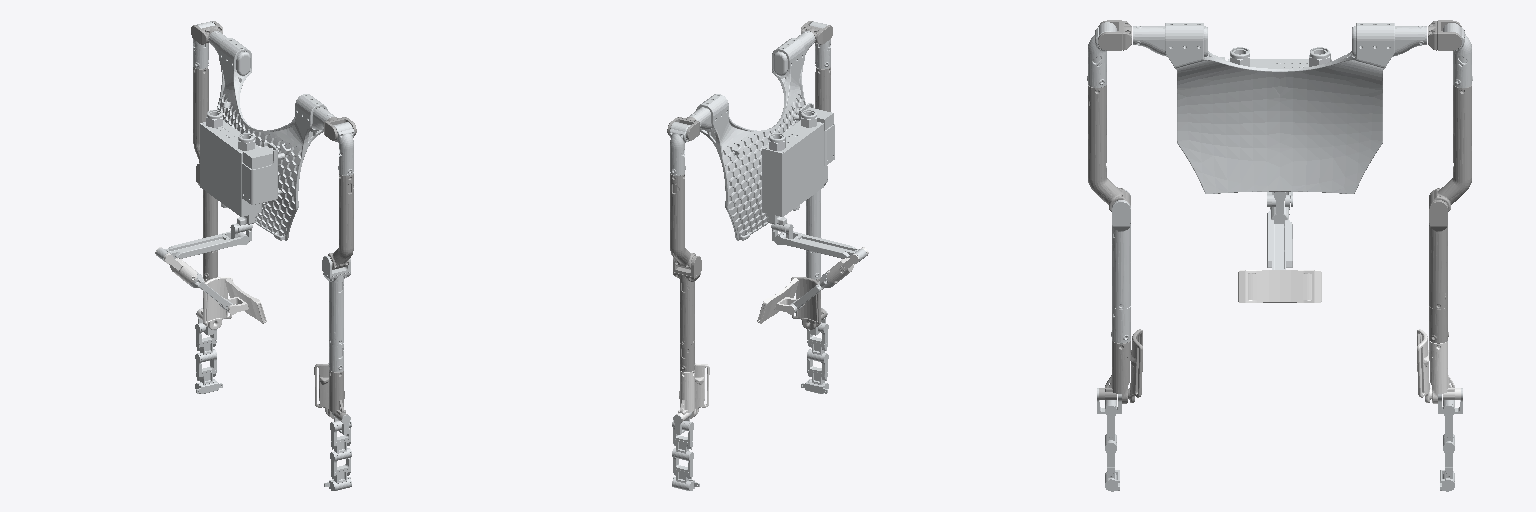
--- Render facts (derived) ---
3 views of the same robot in one strip: view 1: azimuth 30°, elevation 25°; view 2: azimuth 150°, elevation 25°; view 3: azimuth 270°, elevation 25° (orthographic).
Robot: DexCap_v3 — 24 links, 23 joints (23 revolute); root link base_link; default pose: all joints at 0.
Visible links, largest first — view 1: waist_link_5, arm_right_link_4, arm_right_link_3, arm_right_link_5, waist_link_3, arm_left_link_4, arm_left_link_3, arm_left_link_5, base_link, arm_right_link_2, arm_right_link_8; view 2: waist_link_5, arm_left_link_4, arm_left_link_3, arm_left_link_5, waist_link_3, arm_right_link_4, arm_right_link_5, base_link, arm_left_link_2, arm_right_link_3, arm_left_link_8; view 3: waist_link_5, base_link, arm_left_link_4, arm_right_link_4, arm_right_link_3, arm_left_link_3, arm_left_link_5, arm_right_link_5, waist_link_1, arm_right_link_2, arm_left_link_2, arm_left_link_1 (+1 smaller).
Link boxes in pixels (box(x1,y1,x2,y2)): waist_link_5: box(200, 31, 334, 240); arm_right_link_4: box(322, 256, 350, 371); arm_right_link_3: box(328, 174, 353, 269); arm_right_link_5: box(314, 363, 347, 421); waist_link_3: box(156, 231, 249, 260); arm_left_link_4: box(196, 163, 217, 279); arm_left_link_3: box(193, 67, 208, 162); arm_left_link_5: box(197, 277, 232, 329); base_link: box(219, 278, 266, 323); arm_right_link_2: box(333, 122, 354, 175); arm_right_link_8: box(330, 448, 351, 490); waist_link_5: box(689, 31, 834, 240); arm_left_link_4: box(673, 256, 701, 371); arm_left_link_3: box(670, 174, 695, 269); arm_left_link_5: box(676, 363, 709, 421); waist_link_3: box(774, 231, 866, 261); arm_right_link_4: box(806, 166, 827, 279); arm_right_link_5: box(791, 277, 826, 329); base_link: box(757, 278, 804, 323); arm_left_link_2: box(669, 122, 690, 175); arm_right_link_3: box(815, 67, 830, 111); arm_left_link_8: box(672, 448, 693, 490); waist_link_5: box(1133, 23, 1426, 193); base_link: box(1238, 270, 1321, 302); arm_left_link_4: box(1429, 189, 1448, 343); arm_right_link_4: box(1111, 189, 1130, 343); arm_right_link_3: box(1088, 85, 1130, 211); arm_left_link_3: box(1429, 85, 1471, 211); arm_left_link_5: box(1417, 329, 1460, 403); arm_right_link_5: box(1099, 329, 1142, 403); waist_link_1: box(1267, 203, 1292, 269); arm_right_link_2: box(1087, 22, 1116, 87); arm_left_link_2: box(1443, 23, 1472, 87); arm_left_link_1: box(1428, 20, 1461, 50).
Size in the robot's own frame: 0.2705 by 0.5604 by 0.7411 metres.
Meshes: 24 distinct files referenced, 24 mesh visuals loaded (24 binary STL).

robot.urdf — DexCap_v3:
<?xml version="1.0" encoding="utf-8"?>
<!-- This URDF was automatically created by SolidWorks to URDF Exporter! Originally created by Stephen Brawner ([email redacted]) 
     Commit Version: 1.6.0-4-g7f85cfe  Build Version: 1.6.7995.38578
     For more information, please see http://wiki.ros.org/sw_urdf_exporter -->
<robot
  name="DexCap_v3">
  <link
    name="base_link">
    <inertial>
      <origin
        xyz="-0.0630931864277919 -0.000422437093534056 -0.430586750068306"
        rpy="0 0 0" />
      <mass
        value="0.0440398817502708" />
      <inertia
        ixx="5.49008933888164E-05"
        ixy="-3.07838905546442E-07"
        ixz="1.97875073583299E-06"
        iyy="8.52729666533234E-06"
        iyz="-7.1668123423511E-10"
        izz="4.98635363094212E-05" />
    </inertial>
    <visual>
      <origin
        xyz="0 0 0"
        rpy="0 0 0" />
      <geometry>
        <mesh
          filename="package://DexCap_v3/meshes/base_link.STL" />
      </geometry>
      <material
        name="">
        <color
          rgba="1 1 1 1" />
      </material>
    </visual>
    <collision>
      <origin
        xyz="0 0 0"
        rpy="0 0 0" />
      <geometry>
        <mesh
          filename="package://DexCap_v3/meshes/base_link.STL" />
      </geometry>
    </collision>
  </link>
  <link
    name="waist_link_1">
    <inertial>
      <origin
        xyz="-0.0411991666064392 0.0410064851694155 9.10675926758068E-06"
        rpy="0 0 0" />
      <mass
        value="0.0418771435578573" />
      <inertia
        ixx="1.89378440895573E-05"
        ixy="1.40099001815212E-05"
        ixz="2.75368526438087E-07"
        iyy="1.90692136929288E-05"
        iyz="-2.74109582655286E-07"
        izz="2.98796587109041E-05" />
    </inertial>
    <visual>
      <origin
        xyz="0 0 0"
        rpy="0 0 0" />
      <geometry>
        <mesh
          filename="package://DexCap_v3/meshes/waist_link_1.STL" />
      </geometry>
      <material
        name="">
        <color
          rgba="0.898039215686275 0.913725490196078 0.925490196078431 1" />
      </material>
    </visual>
    <collision>
      <origin
        xyz="0 0 0"
        rpy="0 0 0" />
      <geometry>
        <mesh
          filename="package://DexCap_v3/meshes/waist_link_1.STL" />
      </geometry>
    </collision>
  </link>
  <joint
    name="waist_joint_1"
    type="revolute">
    <origin
      xyz="-0.094803 0 -0.43276"
      rpy="1.5708 0 0" />
    <parent
      link="base_link" />
    <child
      link="waist_link_1" />
    <axis
      xyz="0 0 -1" />
    <limit
      lower="-3.1416"
      upper="3.1416"
      effort="0"
      velocity="0" />
  </joint>
  <link
    name="waist_link_2">
    <inertial>
      <origin
        xyz="0.00121680085627097 1.38120373036066E-05 0.0444138239400643"
        rpy="0 0 0" />
      <mass
        value="0.01767886911966" />
      <inertia
        ixx="4.43932417853619E-06"
        ixy="2.95172436200552E-09"
        ixz="-3.52317218989404E-07"
        iyy="4.94084422529294E-06"
        iyz="-1.84708003036118E-09"
        izz="2.27266910279198E-06" />
    </inertial>
    <visual>
      <origin
        xyz="0 0 0"
        rpy="0 0 0" />
      <geometry>
        <mesh
          filename="package://DexCap_v3/meshes/waist_link_2.STL" />
      </geometry>
      <material
        name="">
        <color
          rgba="1 1 1 1" />
      </material>
    </visual>
    <collision>
      <origin
        xyz="0 0 0"
        rpy="0 0 0" />
      <geometry>
        <mesh
          filename="package://DexCap_v3/meshes/waist_link_2.STL" />
      </geometry>
    </collision>
  </link>
  <joint
    name="waist_joint_2"
    type="revolute">
    <origin
      xyz="-0.076334 0.075977 0"
      rpy="-0.7831 -1.5708 0" />
    <parent
      link="waist_link_1" />
    <child
      link="waist_link_2" />
    <axis
      xyz="0 0 1" />
    <limit
      lower="-3.1416"
      upper="3.1416"
      effort="0"
      velocity="0" />
  </joint>
  <link
    name="waist_link_3">
    <inertial>
      <origin
        xyz="0.0723329331985119 0.00032464121468373 -9.65841364722194E-05"
        rpy="0 0 0" />
      <mass
        value="0.0479941122284867" />
      <inertia
        ixx="6.29893851015422E-06"
        ixy="2.98934496773012E-11"
        ixz="-1.66699182942129E-07"
        iyy="4.88179946401882E-05"
        iyz="-1.25145027726795E-12"
        izz="4.3709535800671E-05" />
    </inertial>
    <visual>
      <origin
        xyz="0 0 0"
        rpy="0 0 0" />
      <geometry>
        <mesh
          filename="package://DexCap_v3/meshes/waist_link_3.STL" />
      </geometry>
      <material
        name="">
        <color
          rgba="0.898039215686275 0.913725490196078 0.925490196078431 1" />
      </material>
    </visual>
    <collision>
      <origin
        xyz="0 0 0"
        rpy="0 0 0" />
      <geometry>
        <mesh
          filename="package://DexCap_v3/meshes/waist_link_3.STL" />
      </geometry>
    </collision>
  </link>
  <joint
    name="waist_joint_3"
    type="revolute">
    <origin
      xyz="0 0 0.0828"
      rpy="1.5707963267949 0.787742096537216 1.5707963267949" />
    <parent
      link="waist_link_2" />
    <child
      link="waist_link_3" />
    <axis
      xyz="0 0 1" />
    <limit
      lower="-3.1416"
      upper="3.1416"
      effort="0"
      velocity="0" />
  </joint>
  <link
    name="waist_link_4">
    <inertial>
      <origin
        xyz="-0.000304878530911726 0.00264286663211533 -0.00108460663332032"
        rpy="0 0 0" />
      <mass
        value="0.0129486242824265" />
      <inertia
        ixx="1.2550881316379E-06"
        ixy="3.07837968601309E-07"
        ixz="-1.18110459404384E-23"
        iyy="7.71456924457374E-07"
        iyz="-2.08490250130777E-22"
        izz="1.58440943720495E-06" />
    </inertial>
    <visual>
      <origin
        xyz="0 0 0"
        rpy="0 0 0" />
      <geometry>
        <mesh
          filename="package://DexCap_v3/meshes/waist_link_4.STL" />
      </geometry>
      <material
        name="">
        <color
          rgba="0.898039215686275 0.913725490196078 0.925490196078431 1" />
      </material>
    </visual>
    <collision>
      <origin
        xyz="0 0 0"
        rpy="0 0 0" />
      <geometry>
        <mesh
          filename="package://DexCap_v3/meshes/waist_link_4.STL" />
      </geometry>
    </collision>
  </link>
  <joint
    name="waist_joint_4"
    type="revolute">
    <origin
      xyz="0.16 0.00037503 0"
      rpy="0 0 0" />
    <parent
      link="waist_link_3" />
    <child
      link="waist_link_4" />
    <axis
      xyz="0 0 -1" />
    <limit
      lower="-3.1416"
      upper="3.1416"
      effort="0"
      velocity="0" />
  </joint>
  <link
    name="waist_link_5">
    <inertial>
      <origin
        xyz="-0.0242625662778771 0.188298657473503 0.031042347578289"
        rpy="0 0 0" />
      <mass
        value="0.800247665471353" />
      <inertia
        ixx="0.00270602225574531"
        ixy="-2.19270165136332E-06"
        ixz="-6.49031772027734E-06"
        iyy="0.00417920907970252"
        iyz="-0.000498073354470881"
        izz="0.00638574038550345" />
    </inertial>
    <visual>
      <origin
        xyz="0 0 0"
        rpy="0 0 0" />
      <geometry>
        <mesh
          filename="package://DexCap_v3/meshes/waist_link_5.STL" />
      </geometry>
      <material
        name="">
        <color
          rgba="0.898039215686275 0.913725490196078 0.925490196078431 1" />
      </material>
    </visual>
    <collision>
      <origin
        xyz="0 0 0"
        rpy="0 0 0" />
      <geometry>
        <mesh
          filename="package://DexCap_v3/meshes/waist_link_5.STL" />
      </geometry>
    </collision>
  </link>
  <joint
    name="waist_joint_5"
    type="revolute">
    <origin
      xyz="-0.00020000000002969 0.01900000000001 0"
      rpy="0 1.5707963267949 0" />
    <parent
      link="waist_link_4" />
    <child
      link="waist_link_5" />
    <axis
      xyz="0 0 1" />
    <limit
      lower="-3.1416"
      upper="3.1416"
      effort="0"
      velocity="0" />
  </joint>
  <link
    name="arm_left_link_1">
    <inertial>
      <origin
        xyz="0.000491692755282312 8.07881928223965E-08 0.0180529941312758"
        rpy="0 0 0" />
      <mass
        value="0.0291901572853305" />
      <inertia
        ixx="3.36736877255278E-06"
        ixy="8.66553920834977E-11"
        ixz="-7.62365761081616E-07"
        iyy="5.24618942714991E-06"
        iyz="-1.99502705105374E-11"
        izz="5.18916488235103E-06" />
    </inertial>
    <visual>
      <origin
        xyz="0 0 0"
        rpy="0 0 0" />
      <geometry>
        <mesh
          filename="package://DexCap_v3/meshes/arm_left_link_1.STL" />
      </geometry>
      <material
        name="">
        <color
          rgba="0.749019607843137 0.749019607843137 0.749019607843137 1" />
      </material>
    </visual>
    <collision>
      <origin
        xyz="0 0 0"
        rpy="0 0 0" />
      <geometry>
        <mesh
          filename="package://DexCap_v3/meshes/arm_left_link_1.STL" />
      </geometry>
    </collision>
  </link>
  <joint
    name="arm_left_joint_1"
    type="revolute">
    <origin
      xyz="0.2142 0.279 0.070023"
      rpy="0 -1.5708 3.1416" />
    <parent
      link="waist_link_5" />
    <child
      link="arm_left_link_1" />
    <axis
      xyz="0 0 -1" />
    <limit
      lower="-3.1416"
      upper="3.1416"
      effort="0"
      velocity="0" />
  </joint>
  <link
    name="arm_left_link_2">
    <inertial>
      <origin
        xyz="0.0102730214984517 -0.0285830464236879 0.000353452321258163"
        rpy="0 0 0" />
      <mass
        value="0.0642318746332446" />
      <inertia
        ixx="2.30867042039257E-05"
        ixy="2.77069669390713E-07"
        ixz="-8.63100971408862E-12"
        iyy="6.78871609081445E-06"
        iyz="5.68881547154965E-12"
        izz="2.27519054468147E-05" />
    </inertial>
    <visual>
      <origin
        xyz="0 0 0"
        rpy="0 0 0" />
      <geometry>
        <mesh
          filename="package://DexCap_v3/meshes/arm_left_link_2.STL" />
      </geometry>
      <material
        name="">
        <color
          rgba="0.898039215686275 0.913725490196078 0.925490196078431 1" />
      </material>
    </visual>
    <collision>
      <origin
        xyz="0 0 0"
        rpy="0 0 0" />
      <geometry>
        <mesh
          filename="package://DexCap_v3/meshes/arm_left_link_2.STL" />
      </geometry>
    </collision>
  </link>
  <joint
    name="arm_left_joint_2"
    type="revolute">
    <origin
      xyz="0 0 0.0365"
      rpy="3.1416 -1.5708 0" />
    <parent
      link="arm_left_link_1" />
    <child
      link="arm_left_link_2" />
    <axis
      xyz="0 0 -1" />
    <limit
      lower="-3.1416"
      upper="3.1416"
      effort="0"
      velocity="0" />
  </joint>
  <link
    name="arm_left_link_3">
    <inertial>
      <origin
        xyz="-0.00733992996293159 0.000166259726387946 0.11062104373699"
        rpy="0 0 0" />
      <mass
        value="0.138269534134036" />
      <inertia
        ixx="0.000365670556027247"
        ixy="-3.87828013482665E-09"
        ixz="2.54070139340245E-05"
        iyy="0.000370256124751617"
        iyz="2.10574873034976E-08"
        izz="1.91791971761677E-05" />
    </inertial>
    <visual>
      <origin
        xyz="0 0 0"
        rpy="0 0 0" />
      <geometry>
        <mesh
          filename="package://DexCap_v3/meshes/arm_left_link_3.STL" />
      </geometry>
      <material
        name="">
        <color
          rgba="0.749019607843137 0.749019607843137 0.749019607843137 1" />
      </material>
    </visual>
    <collision>
      <origin
        xyz="0 0 0"
        rpy="0 0 0" />
      <geometry>
        <mesh
          filename="package://DexCap_v3/meshes/arm_left_link_3.STL" />
      </geometry>
    </collision>
  </link>
  <joint
    name="arm_left_joint_3"
    type="revolute">
    <origin
      xyz="0.015 -0.0778 0"
      rpy="1.5708 0 0" />
    <parent
      link="arm_left_link_2" />
    <child
      link="arm_left_link_3" />
    <axis
      xyz="0 0 -1" />
    <limit
      lower="-3.1416"
      upper="3.1416"
      effort="0"
      velocity="0" />
  </joint>
  <link
    name="arm_left_link_4">
    <inertial>
      <origin
        xyz="-5.54231536781247E-05 -0.108068569915374 -9.07055910222271E-05"
        rpy="0 0 0" />
      <mass
        value="0.155007696193009" />
      <inertia
        ixx="0.00020149844235198"
        ixy="1.19077293006666E-07"
        ixz="-3.11698268436826E-09"
        iyy="1.69189216785844E-05"
        iyz="7.47862962917814E-07"
        izz="0.00019958368356289" />
    </inertial>
    <visual>
      <origin
        xyz="0 0 0"
        rpy="0 0 0" />
      <geometry>
        <mesh
          filename="package://DexCap_v3/meshes/arm_left_link_4.STL" />
      </geometry>
      <material
        name="">
        <color
          rgba="0.749019607843137 0.749019607843137 0.749019607843137 1" />
      </material>
    </visual>
    <collision>
      <origin
        xyz="0 0 0"
        rpy="0 0 0" />
      <geometry>
        <mesh
          filename="package://DexCap_v3/meshes/arm_left_link_4.STL" />
      </geometry>
    </collision>
  </link>
  <joint
    name="arm_left_joint_4"
    type="revolute">
    <origin
      xyz="-0.034999999999851 0 0.1922"
      rpy="-1.5707963267949 0 0" />
    <parent
      link="arm_left_link_3" />
    <child
      link="arm_left_link_4" />
    <axis
      xyz="0 0 1" />
    <limit
      lower="-3.1416"
      upper="3.1416"
      effort="0"
      velocity="0" />
  </joint>
  <link
    name="arm_left_link_5">
    <inertial>
      <origin
        xyz="-0.00453770344525137 9.94969532701099E-05 0.0469404845000466"
        rpy="0 0 0" />
      <mass
        value="0.0844986298304657" />
      <inertia
        ixx="5.78663108959802E-05"
        ixy="8.66885585467564E-09"
        ixz="-3.87484133465434E-06"
        iyy="5.01466383127894E-05"
        iyz="1.04435544740528E-07"
        izz="1.25294015769866E-05" />
    </inertial>
    <visual>
      <origin
        xyz="0 0 0"
        rpy="0 0 0" />
      <geometry>
        <mesh
          filename="package://DexCap_v3/meshes/arm_left_link_5.STL" />
      </geometry>
      <material
        name="">
        <color
          rgba="1 1 1 1" />
      </material>
    </visual>
    <collision>
      <origin
        xyz="0 0 0"
        rpy="0 0 0" />
      <geometry>
        <mesh
          filename="package://DexCap_v3/meshes/arm_left_link_5.STL" />
      </geometry>
    </collision>
  </link>
  <joint
    name="arm_left_joint_5"
    type="revolute">
    <origin
      xyz="0 -0.2178 0"
      rpy="1.5708 0 0" />
    <parent
      link="arm_left_link_4" />
    <child
      link="arm_left_link_5" />
    <axis
      xyz="0 0 -1" />
    <limit
      lower="-3.1416"
      upper="3.1416"
      effort="0"
      velocity="0" />
  </joint>
  <link
    name="arm_left_link_6">
    <inertial>
      <origin
        xyz="-0.00108460663324061 -0.0163571333680134 0.000104878530787972"
        rpy="0 0 0" />
      <mass
        value="0.0129486242824265" />
      <inertia
        ixx="1.58440943720495E-06"
        ixy="1.37411603608853E-19"
        ixz="5.14017084214515E-20"
        iyy="7.71456924457372E-07"
        iyz="-3.07837968601309E-07"
        izz="1.2550881316379E-06" />
    </inertial>
    <visual>
      <origin
        xyz="0 0 0"
        rpy="0 0 0" />
      <geometry>
        <mesh
          filename="package://DexCap_v3/meshes/arm_left_link_6.STL" />
      </geometry>
      <material
        name="">
        <color
          rgba="0.898039215686275 0.913725490196078 0.925490196078431 1" />
      </material>
    </visual>
    <collision>
      <origin
        xyz="0 0 0"
        rpy="0 0 0" />
      <geometry>
        <mesh
          filename="package://DexCap_v3/meshes/arm_left_link_6.STL" />
      </geometry>
    </collision>
  </link>
  <joint
    name="arm_left_joint_6"
    type="revolute">
    <origin
      xyz="0.0148000000000425 0 0.0871999999999999"
      rpy="-1.5707963267949 0 1.5707963267949" />
    <parent
      link="arm_left_link_5" />
    <child
      link="arm_left_link_6" />
    <axis
      xyz="0 0 -1" />
    <limit
      lower="-3.1416"
      upper="3.1416"
      effort="0"
      velocity="0" />
  </joint>
  <link
    name="arm_left_link_7">
    <inertial>
      <origin
        xyz="2.47728226820954E-11 -0.0377782950562069 -0.000310017130732257"
        rpy="0 0 0" />
      <mass
        value="0.0185428471276505" />
      <inertia
        ixx="2.46260702228347E-06"
        ixy="3.83136935046714E-15"
        ixz="9.45777447148124E-14"
        iyy="1.43805434657213E-06"
        iyz="2.89921223360366E-07"
        izz="1.59800469969333E-06" />
    </inertial>
    <visual>
      <origin
        xyz="0 0 0"
        rpy="0 0 0" />
      <geometry>
        <mesh
          filename="package://DexCap_v3/meshes/arm_left_link_7.STL" />
      </geometry>
      <material
        name="">
        <color
          rgba="0.898039215686275 0.913725490196078 0.925490196078431 1" />
      </material>
    </visual>
    <collision>
      <origin
        xyz="0 0 0"
        rpy="0 0 0" />
      <geometry>
        <mesh
          filename="package://DexCap_v3/meshes/arm_left_link_7.STL" />
      </geometry>
    </collision>
  </link>
  <joint
    name="arm_left_joint_7"
    type="revolute">
    <origin
      xyz="0 -0.0189999999999997 -0.00019999999999698"
      rpy="0 -1.5707963267949 0" />
    <parent
      link="arm_left_link_6" />
    <child
      link="arm_left_link_7" />
    <axis
      xyz="0 0 -1" />
    <limit
      lower="-3.1416"
      upper="3.1416"
      effort="0"
      velocity="0" />
  </joint>
  <link
    name="arm_left_link_8">
    <inertial>
      <origin
        xyz="2.47724063484611E-11 -0.0377782950562132 -0.000310017128458956"
        rpy="0 0 0" />
      <mass
        value="0.0185428471276505" />
      <inertia
        ixx="2.46260702228346E-06"
        ixy="3.83135028958458E-15"
        ixz="9.45776363496197E-14"
        iyy="1.43805434657205E-06"
        iyz="2.89921223360308E-07"
        izz="1.5980046996934E-06" />
    </inertial>
    <visual>
      <origin
        xyz="0 0 0"
        rpy="0 0 0" />
      <geometry>
        <mesh
          filename="package://DexCap_v3/meshes/arm_left_link_8.STL" />
      </geometry>
      <material
        name="">
        <color
          rgba="0.898039215686275 0.913725490196078 0.925490196078431 1" />
      </material>
    </visual>
    <collision>
      <origin
        xyz="0 0 0"
        rpy="0 0 0" />
      <geometry>
        <mesh
          filename="package://DexCap_v3/meshes/arm_left_link_8.STL" />
      </geometry>
    </collision>
  </link>
  <joint
    name="arm_left_joint_8"
    type="revolute">
    <origin
      xyz="0 -0.0599999999999968 0"
      rpy="0 0 0" />
    <parent
      link="arm_left_link_7" />
    <child
      link="arm_left_link_8" />
    <axis
      xyz="0 0 -1" />
    <limit
      lower="-3.1416"
      upper="3.1416"
      effort="0"
      velocity="0" />
  </joint>
  <link
    name="arm_left_link_9">
    <inertial>
      <origin
        xyz="0.00639822720601635 4.44089209850063E-16 -0.00288709539829008"
        rpy="0 0 0" />
      <mass
        value="0.00495546955469289" />
      <inertia
        ixx="5.12304390767419E-07"
        ixy="2.07173950890951E-20"
        ixz="-1.24104661970862E-07"
        iyy="6.11786453873738E-07"
        iyz="5.14072274407268E-20"
        izz="3.04653246440413E-07" />
    </inertial>
    <visual>
      <origin
        xyz="0 0 0"
        rpy="0 0 0" />
      <geometry>
        <mesh
          filename="package://DexCap_v3/meshes/arm_left_link_9.STL" />
      </geometry>
      <material
        name="">
        <color
          rgba="0.898039215686275 0.913725490196078 0.925490196078431 1" />
      </material>
    </visual>
    <collision>
      <origin
        xyz="0 0 0"
        rpy="0 0 0" />
      <geometry>
        <mesh
          filename="package://DexCap_v3/meshes/arm_left_link_9.STL" />
      </geometry>
    </collision>
  </link>
  <joint
    name="arm_left_joint_9"
    type="revolute">
    <origin
      xyz="0 -0.06 0"
      rpy="0 0 0" />
    <parent
      link="arm_left_link_8" />
    <child
      link="arm_left_link_9" />
    <axis
      xyz="0 0 -1" />
    <limit
      lower="-3.1416"
      upper="3.1416"
      effort="0"
      velocity="0" />
  </joint>
  <link
    name="arm_right_link_1">
    <inertial>
      <origin
        xyz="0.000491692755382987 8.07881928259526E-08 0.0180529941312758"
        rpy="0 0 0" />
      <mass
        value="0.0291901572853304" />
      <inertia
        ixx="3.36736877255277E-06"
        ixy="8.66553920846507E-11"
        ixz="-7.62365761081613E-07"
        iyy="5.24618942714991E-06"
        iyz="-1.9950270509776E-11"
        izz="5.18916488235103E-06" />
    </inertial>
    <visual>
      <origin
        xyz="0 0 0"
        rpy="0 0 0" />
      <geometry>
        <mesh
          filename="package://DexCap_v3/meshes/arm_right_link_1.STL" />
      </geometry>
      <material
        name="">
        <color
          rgba="0.749019607843137 0.749019607843137 0.749019607843137 1" />
      </material>
    </visual>
    <collision>
      <origin
        xyz="0 0 0"
        rpy="0 0 0" />
      <geometry>
        <mesh
          filename="package://DexCap_v3/meshes/arm_right_link_1.STL" />
      </geometry>
    </collision>
  </link>
  <joint
    name="arm_right_joint_1"
    type="revolute">
    <origin
      xyz="-0.2142 0.279000000000008 0.0700226591794687"
      rpy="0 -1.5707963267949 0" />
    <parent
      link="waist_link_5" />
    <child
      link="arm_right_link_1" />
    <axis
      xyz="0 0 -1" />
    <limit
      lower="-3.1416"
      upper="3.1416"
      effort="0"
      velocity="0" />
  </joint>
  <link
    name="arm_right_link_2">
    <inertial>
      <origin
        xyz="-0.0102730215036719 -0.0285830464057544 -0.000353452353158428"
        rpy="0 0 0" />
      <mass
        value="0.0642318746332448" />
      <inertia
        ixx="2.30867042039259E-05"
        ixy="-2.77069669390719E-07"
        ixz="-8.63100971270341E-12"
        iyy="6.78871609081445E-06"
        iyz="-5.68881546710899E-12"
        izz="2.27519054468148E-05" />
    </inertial>
    <visual>
      <origin
        xyz="0 0 0"
        rpy="0 0 0" />
      <geometry>
        <mesh
          filename="package://DexCap_v3/meshes/arm_right_link_2.STL" />
      </geometry>
      <material
        name="">
        <color
          rgba="0.898039215686275 0.913725490196078 0.925490196078431 1" />
      </material>
    </visual>
    <collision>
      <origin
        xyz="0 0 0"
        rpy="0 0 0" />
      <geometry>
        <mesh
          filename="package://DexCap_v3/meshes/arm_right_link_2.STL" />
      </geometry>
    </collision>
  </link>
  <joint
    name="arm_right_joint_2"
    type="revolute">
    <origin
      xyz="0 0 0.0365"
      rpy="0 1.5707963267949 0" />
    <parent
      link="arm_right_link_1" />
    <child
      link="arm_right_link_2" />
    <axis
      xyz="0 0 1" />
    <limit
      lower="-3.1416"
      upper="3.1416"
      effort="0"
      velocity="0" />
  </joint>
  <link
    name="arm_right_link_3">
    <inertial>
      <origin
        xyz="0.00733992996293154 -0.000166259726376692 0.11062104373699"
        rpy="0 0 0" />
      <mass
        value="0.138269534134036" />
      <inertia
        ixx="0.000365670556027246"
        ixy="-3.87828013483114E-09"
        ixz="-2.54070139340242E-05"
        iyy="0.000370256124751616"
        iyz="-2.10574873035411E-08"
        izz="1.91791971761675E-05" />
    </inertial>
    <visual>
      <origin
        xyz="0 0 0"
        rpy="0 0 0" />
      <geometry>
        <mesh
          filename="package://DexCap_v3/meshes/arm_right_link_3.STL" />
      </geometry>
      <material
        name="">
        <color
          rgba="0.749019607843137 0.749019607843137 0.749019607843137 1" />
      </material>
    </visual>
    <collision>
      <origin
        xyz="0 0 0"
        rpy="0 0 0" />
      <geometry>
        <mesh
          filename="package://DexCap_v3/meshes/arm_right_link_3.STL" />
      </geometry>
    </collision>
  </link>
  <joint
    name="arm_right_joint_3"
    type="revolute">
    <origin
      xyz="-0.014999999999851 -0.0778000000000044 0"
      rpy="1.5707963267949 0 0" />
    <parent
      link="arm_right_link_2" />
    <child
      link="arm_right_link_3" />
    <axis
      xyz="0 0 -1" />
    <limit
      lower="-3.1416"
      upper="3.1416"
      effort="0"
      velocity="0" />
  </joint>
  <link
    name="arm_right_link_4">
    <inertial>
      <origin
        xyz="5.54231536780692E-05 -0.108068569915374 0.000140705590931115"
        rpy="0 0 0" />
      <mass
        value="0.155007696193009" />
      <inertia
        ixx="0.00020149844235198"
        ixy="-1.19077293006681E-07"
        ixz="-3.11698268437398E-09"
        iyy="1.69189216785844E-05"
        iyz="-7.47862962917863E-07"
        izz="0.000199583683562891" />
    </inertial>
    <visual>
      <origin
        xyz="0 0 0"
        rpy="0 0 0" />
      <geometry>
        <mesh
          filename="package://DexCap_v3/meshes/arm_right_link_4.STL" />
      </geometry>
      <material
        name="">
        <color
          rgba="0.898039215686275 0.913725490196078 0.925490196078431 1" />
      </material>
    </visual>
    <collision>
      <origin
        xyz="0 0 0"
        rpy="0 0 0" />
      <geometry>
        <mesh
          filename="package://DexCap_v3/meshes/arm_right_link_4.STL" />
      </geometry>
    </collision>
  </link>
  <joint
    name="arm_right_joint_4"
    type="revolute">
    <origin
      xyz="0.034999999999851 -4.99999999515264E-05 0.1922"
      rpy="-1.5707963267949 0 0" />
    <parent
      link="arm_right_link_3" />
    <child
      link="arm_right_link_4" />
    <axis
      xyz="0 0 -1" />
    <limit
      lower="-3.1416"
      upper="3.1416"
      effort="0"
      velocity="0" />
  </joint>
  <link
    name="arm_right_link_5">
    <inertial>
      <origin
        xyz="0.00453770347062363 9.95288155575336E-05 0.0469404847556881"
        rpy="0 0 0" />
      <mass
        value="0.0844986304744271" />
      <inertia
        ixx="5.78663107793658E-05"
        ixy="-8.68174114892829E-09"
        ixz="3.87484127293338E-06"
        iyy="5.0146639607409E-05"
        iyz="1.04367505291894E-07"
        izz="1.25294003365855E-05" />
    </inertial>
    <visual>
      <origin
        xyz="0 0 0"
        rpy="0 0 0" />
      <geometry>
        <mesh
          filename="package://DexCap_v3/meshes/arm_right_link_5.STL" />
      </geometry>
      <material
        name="">
        <color
          rgba="0.749019607843137 0.749019607843137 0.749019607843137 1" />
      </material>
    </visual>
    <collision>
      <origin
        xyz="0 0 0"
        rpy="0 0 0" />
      <geometry>
        <mesh
          filename="package://DexCap_v3/meshes/arm_right_link_5.STL" />
      </geometry>
    </collision>
  </link>
  <joint
    name="arm_right_joint_5"
    type="revolute">
    <origin
      xyz="0 -0.2178 4.99999998749544E-05"
      rpy="1.5707963267949 0 0" />
    <parent
      link="arm_right_link_4" />
    <child
      link="arm_right_link_5" />
    <axis
      xyz="0 0 -1" />
    <limit
      lower="-3.1416"
      upper="3.1416"
      effort="0"
      velocity="0" />
  </joint>
  <link
    name="arm_right_link_6">
    <inertial>
      <origin
        xyz="-0.00108460663328887 -0.0163571333680133 0.000104878530787889"
        rpy="0 0 0" />
      <mass
        value="0.0129486242824265" />
      <inertia
        ixx="1.58440943720495E-06"
        ixy="-1.36744986896434E-19"
        ixz="-5.1954274149292E-20"
        iyy="7.71456924457371E-07"
        iyz="-3.07837968601308E-07"
        izz="1.2550881316379E-06" />
    </inertial>
    <visual>
      <origin
        xyz="0 0 0"
        rpy="0 0 0" />
      <geometry>
        <mesh
          filename="package://DexCap_v3/meshes/arm_right_link_6.STL" />
      </geometry>
      <material
        name="">
        <color
          rgba="0.898039215686275 0.913725490196078 0.925490196078431 1" />
      </material>
    </visual>
    <collision>
      <origin
        xyz="0 0 0"
        rpy="0 0 0" />
      <geometry>
        <mesh
          filename="package://DexCap_v3/meshes/arm_right_link_6.STL" />
      </geometry>
    </collision>
  </link>
  <joint
    name="arm_right_joint_6"
    type="revolute">
    <origin
      xyz="-0.0148000000000425 0 0.0871999999999999"
      rpy="-1.5707963267949 0 -1.5707963267949" />
    <parent
      link="arm_right_link_5" />
    <child
      link="arm_right_link_6" />
    <axis
      xyz="0 0 -1" />
    <limit
      lower="-3.1416"
      upper="3.1416"
      effort="0"
      velocity="0" />
  </joint>
  <link
    name="arm_right_link_7">
    <inertial>
      <origin
        xyz="2.47729337043978E-11 -0.0377782950562068 -0.000310017130721131"
        rpy="0 0 0" />
      <mass
        value="0.0185428471276505" />
      <inertia
        ixx="2.46260702228346E-06"
        ixy="3.83135523234051E-15"
        ixz="9.45777040222363E-14"
        iyy="1.43805434657215E-06"
        iyz="2.89921223360334E-07"
        izz="1.5980046996933E-06" />
    </inertial>
    <visual>
      <origin
        xyz="0 0 0"
        rpy="0 0 0" />
      <geometry>
        <mesh
          filename="package://DexCap_v3/meshes/arm_right_link_7.STL" />
      </geometry>
      <material
        name="">
        <color
          rgba="0.898039215686275 0.913725490196078 0.925490196078431 1" />
      </material>
    </visual>
    <collision>
      <origin
        xyz="0 0 0"
        rpy="0 0 0" />
      <geometry>
        <mesh
          filename="package://DexCap_v3/meshes/arm_right_link_7.STL" />
      </geometry>
    </collision>
  </link>
  <joint
    name="arm_right_joint_7"
    type="revolute">
    <origin
      xyz="0 -0.019 -0.0002"
      rpy="0 -1.5708 0" />
    <parent
      link="arm_right_link_6" />
    <child
      link="arm_right_link_7" />
    <axis
      xyz="0 0 -1" />
    <limit
      lower="-3.1416"
      upper="3.1416"
      effort="0"
      velocity="0" />
  </joint>
  <link
    name="arm_right_link_8">
    <inertial>
      <origin
        xyz="2.47718512369488E-11 -0.0377782950562136 -0.000310017132988795"
        rpy="0 0 0" />
      <mass
        value="0.0185428471276504" />
      <inertia
        ixx="2.46260702228345E-06"
        ixy="3.83135971792933E-15"
        ixz="9.45778281529921E-14"
        iyy="1.43805434657214E-06"
        iyz="2.89921223360336E-07"
        izz="1.5980046996933E-06" />
    </inertial>
    <visual>
      <origin
        xyz="0 0 0"
        rpy="0 0 0" />
      <geometry>
        <mesh
          filename="package://DexCap_v3/meshes/arm_right_link_8.STL" />
      </geometry>
      <material
        name="">
        <color
          rgba="0.898039215686275 0.913725490196078 0.925490196078431 1" />
      </material>
    </visual>
    <collision>
      <origin
        xyz="0 0 0"
        rpy="0 0 0" />
      <geometry>
        <mesh
          filename="package://DexCap_v3/meshes/arm_right_link_8.STL" />
      </geometry>
    </collision>
  </link>
  <joint
    name="arm_right_joint_8"
    type="revolute">
    <origin
      xyz="0 -0.0599999999999966 0"
      rpy="0 0 0" />
    <parent
      link="arm_right_link_7" />
    <child
      link="arm_right_link_8" />
    <axis
      xyz="0 0 -1" />
    <limit
      lower="-3.1416"
      upper="3.1416"
      effort="0"
      velocity="0" />
  </joint>
  <link
    name="arm_right_link_9">
    <inertial>
      <origin
        xyz="0.00639822720601721 -1.11022302462516E-16 -0.00288709539837131"
        rpy="0 0 0" />
      <mass
        value="0.00495546955469288" />
      <inertia
        ixx="5.12304390767496E-07"
        ixy="-2.46146329833394E-22"
        ixz="-1.24104661970793E-07"
        iyy="6.11786453873735E-07"
        iyz="-4.11916957792849E-22"
        izz="3.04653246440331E-07" />
    </inertial>
    <visual>
      <origin
        xyz="0 0 0"
        rpy="0 0 0" />
      <geometry>
        <mesh
          filename="package://DexCap_v3/meshes/arm_right_link_9.STL" />
      </geometry>
      <material
        name="">
        <color
          rgba="0.898039215686275 0.913725490196078 0.925490196078431 1" />
      </material>
    </visual>
    <collision>
      <origin
        xyz="0 0 0"
        rpy="0 0 0" />
      <geometry>
        <mesh
          filename="package://DexCap_v3/meshes/arm_right_link_9.STL" />
      </geometry>
    </collision>
  </link>
  <joint
    name="arm_right_joint_9"
    type="revolute">
    <origin
      xyz="0 -0.06 0"
      rpy="0 0 0" />
    <parent
      link="arm_right_link_8" />
    <child
      link="arm_right_link_9" />
    <axis
      xyz="0 0 -1" />
    <limit
      lower="-3.1416"
      upper="3.1416"
      effort="0"
      velocity="0" />
  </joint>
</robot>
